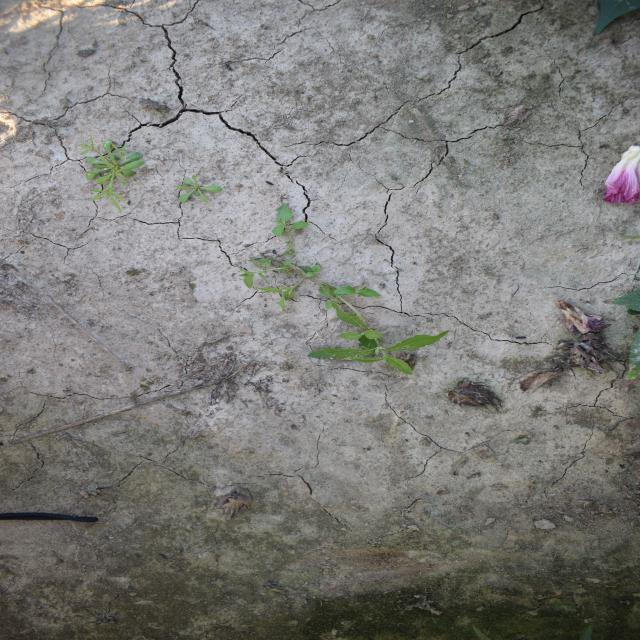Carpetweed: (76, 133, 146, 214), (174, 173, 223, 204)
Eclipta: (236, 201, 453, 376)
